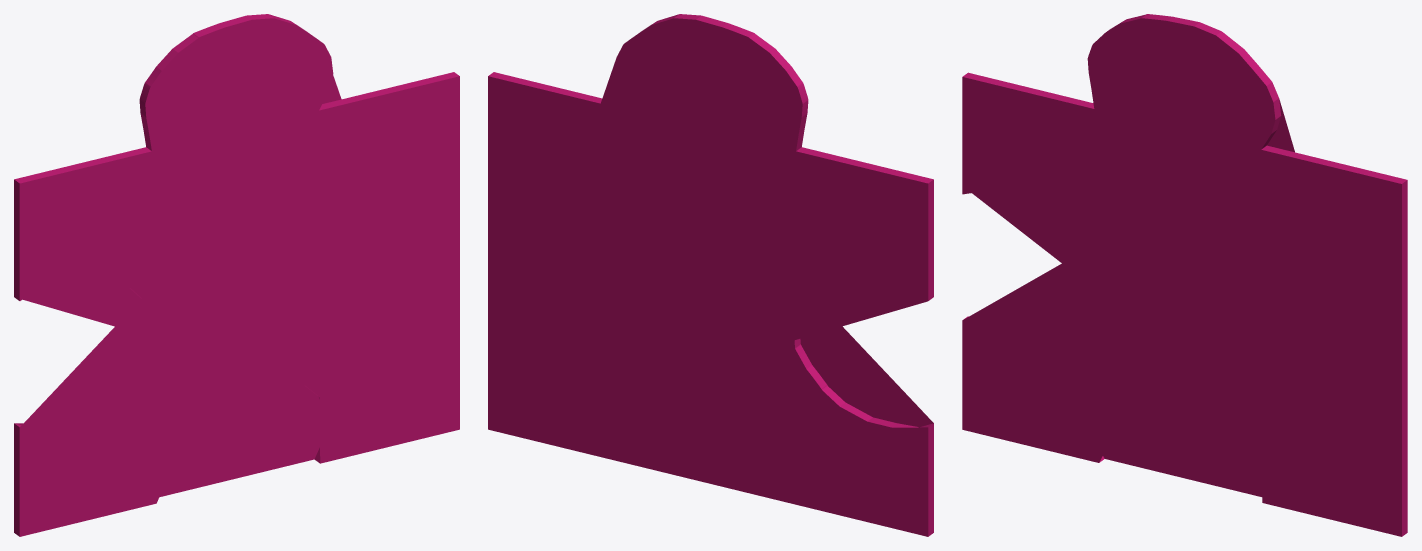
File: SidePiece5.obj
The picture shows the model from 3 angles, left to right: view 1: azimuth 30°, elevation 25°; view 2: azimuth 150°, elevation 25°; view 3: azimuth 330°, elevation 25°; orthographic projection.
Parts seen in each view (by area): view 1: Cap_1, Cap_2, Extrude; view 2: Cap_2, Cap_1, Extrude; view 3: Cap_1, Cap_2, Extrude.
Part boxes in pixels (x1,y1,x2,y2): Cap_1: (19, 18, 459, 536); Cap_2: (15, 75, 341, 497); Extrude: (14, 14, 459, 536); Cap_2: (488, 18, 928, 536); Cap_1: (800, 326, 933, 427); Extrude: (488, 14, 933, 536); Cap_1: (962, 18, 1401, 536); Cap_2: (972, 99, 1294, 496); Extrude: (962, 14, 1407, 536).
Size of the model in its own units: 0.6978 by 0.6978 by 0.0158.
